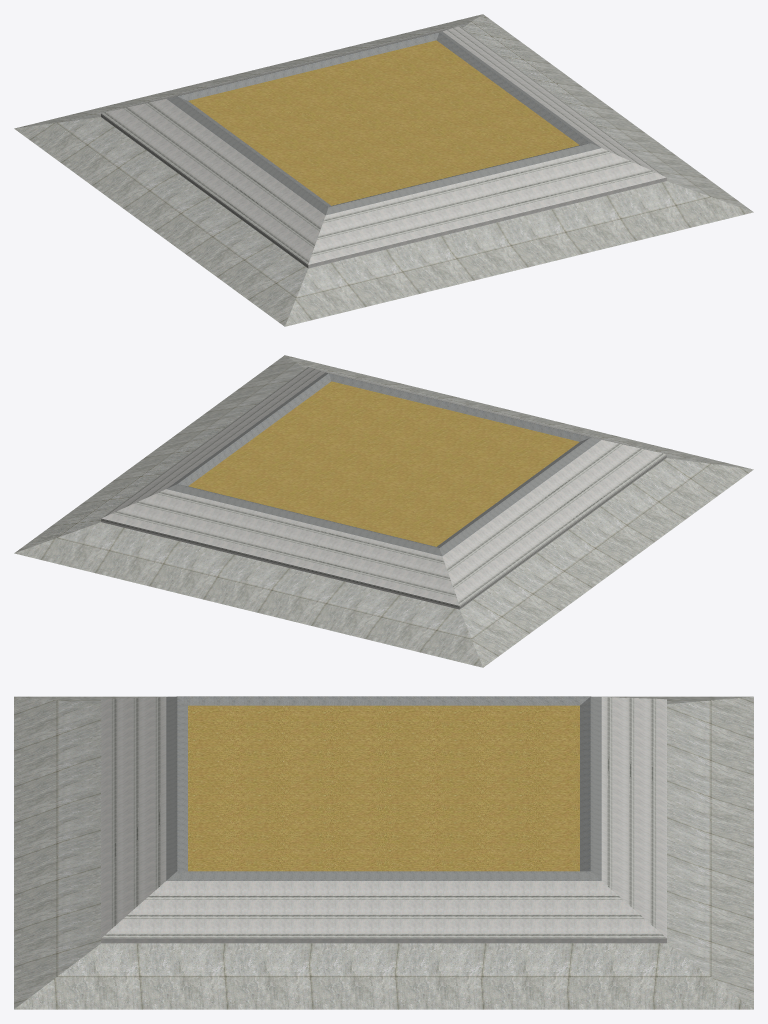
File: ply_corl_garden_med_s01_l1.fbx
3 views of the same model, one above another, from view 1: azimuth 30°, elevation 25°; view 2: azimuth 150°, elevation 25°; view 3: azimuth 270°, elevation 25° (orthographic). The views are drawn at different scales.
Visible parts, largest first — view 1: mesh_node; view 2: mesh_node; view 3: mesh_node.
Boxes of the visible parts, bbox=[...] form: mesh_node: bbox=[14, 14, 753, 326]; mesh_node: bbox=[14, 355, 753, 667]; mesh_node: bbox=[14, 696, 753, 1009].
Bounding box in the file's own units: 34 × 3.51 × 34.
